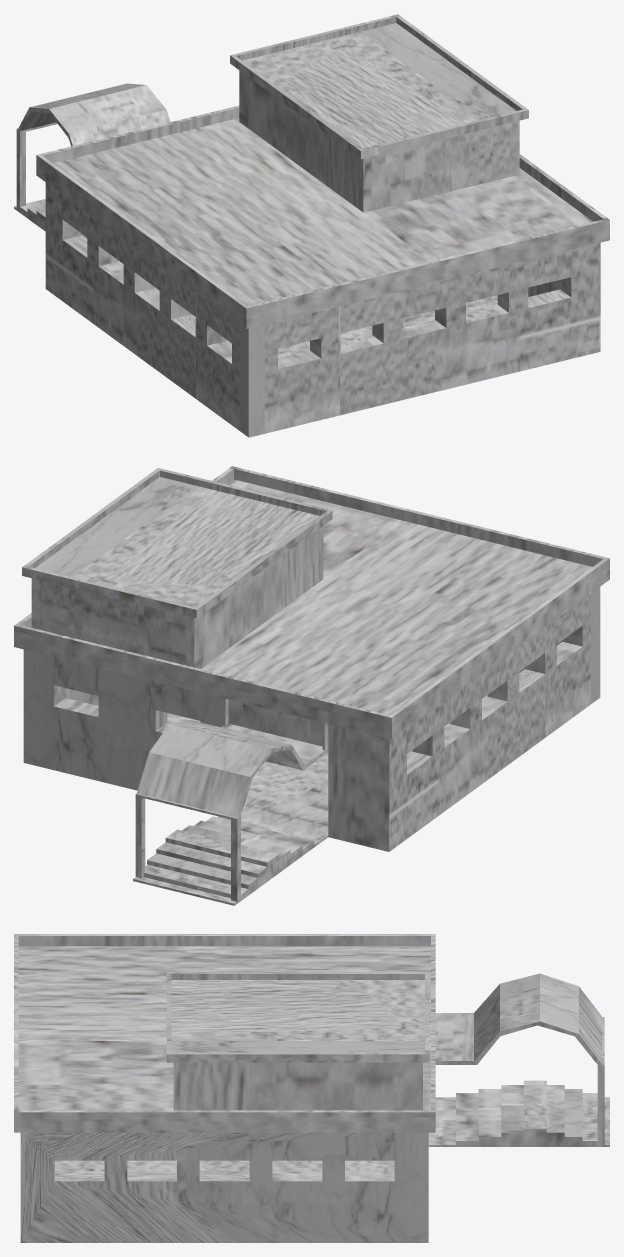
File: build9.dae
The picture shows the model from 3 angles, top to bottom: view 1: azimuth 30°, elevation 25°; view 2: azimuth 150°, elevation 25°; view 3: azimuth 270°, elevation 25°; orthographic projection. The views are drawn at different scales.
Parts seen in each view (by area): view 1: Build11; view 2: Build11; view 3: Build11.
Part boxes in pixels (<box>): Build11: <box>14,14,609,437</box>; Build11: <box>14,466,609,905</box>; Build11: <box>14,934,609,1242</box>.
Bounding box in the file's own units: 18.6 × 26.3 × 9.2.
Materials: 1 (1 with a texture image).
